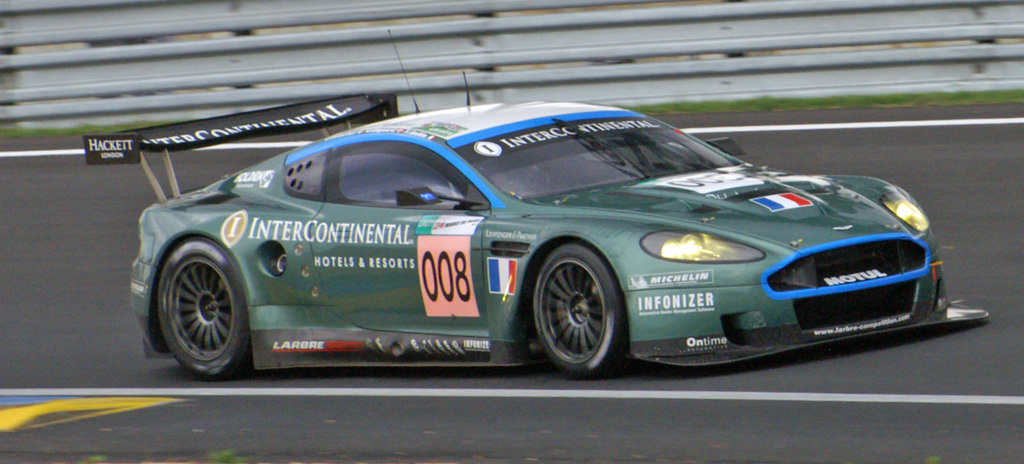Car: (82, 25, 989, 381)
